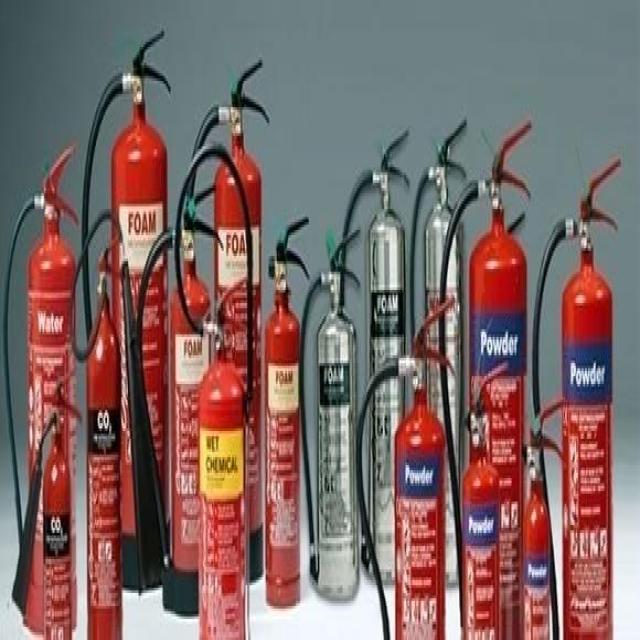fire_extinguisher: (76, 21, 174, 603), (435, 115, 535, 637), (179, 52, 271, 604), (66, 202, 175, 638), (526, 152, 622, 638), (167, 136, 256, 637), (0, 136, 87, 637), (132, 174, 226, 620), (327, 126, 412, 598), (351, 292, 458, 638), (404, 114, 469, 592), (295, 220, 365, 604), (259, 205, 313, 610), (11, 356, 85, 638), (454, 356, 512, 638), (516, 384, 570, 637)
